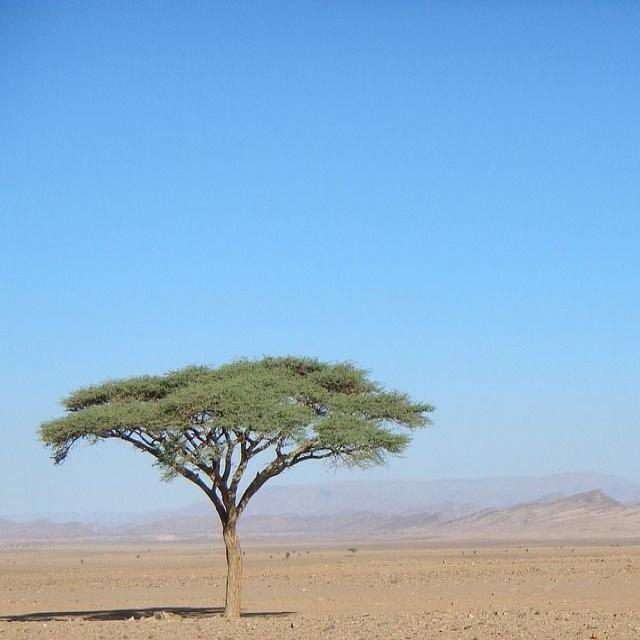Acacia: (49, 348, 434, 582)
